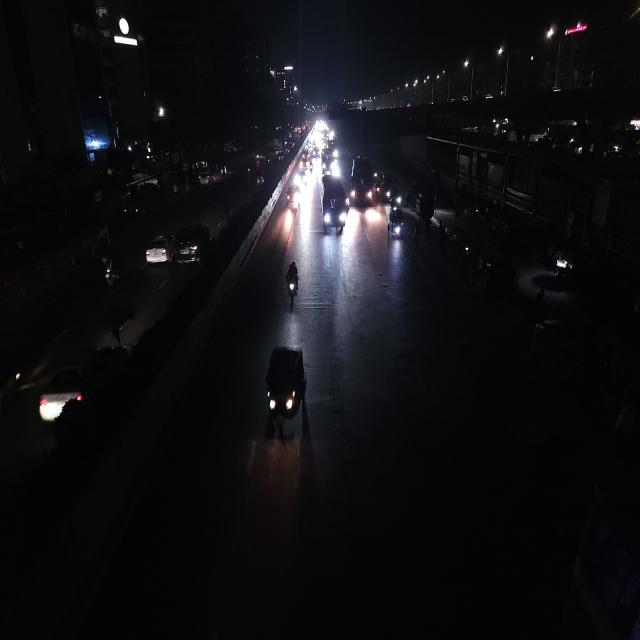bus: (320, 172, 348, 235), (349, 154, 375, 207), (321, 150, 333, 175)
car: (36, 337, 128, 432), (172, 220, 212, 271), (121, 173, 161, 220), (144, 232, 172, 268), (386, 206, 406, 242), (284, 180, 300, 211), (196, 166, 214, 189)
cng: (262, 341, 311, 437)
motorcycle: (283, 258, 301, 309), (98, 249, 117, 288)
pickup_van: (386, 206, 406, 242)
